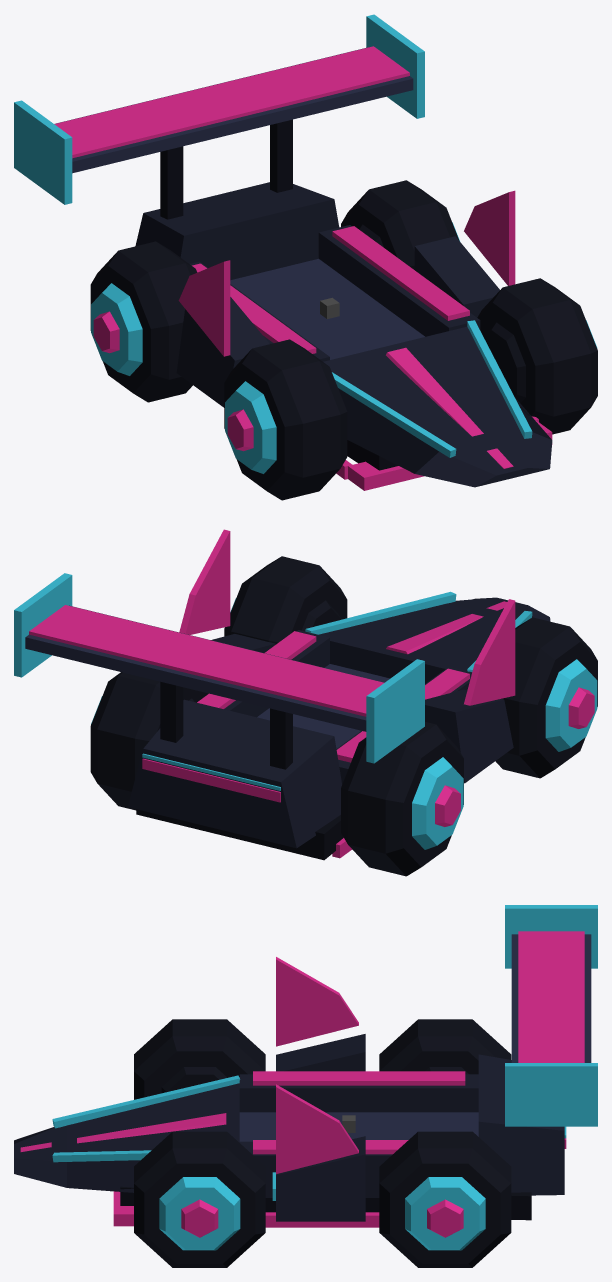
Rendered from kart-nightCity.glb.
3 views of the same model, one above another, from view 1: azimuth 30°, elevation 25°; view 2: azimuth 150°, elevation 25°; view 3: azimuth 270°, elevation 25° (orthographic). The views are drawn at different scales.
Visible parts, largest first — view 1: kart-nightCity, wheel-front-right, wheel-front-left, wheel-back-right, wheel-back-left; view 2: kart-nightCity, wheel-back-right, wheel-front-right, wheel-front-left, wheel-back-left; view 3: kart-nightCity, wheel-back-left, wheel-front-left, wheel-front-right, wheel-back-right.
Boxes of the visible parts, x1,y1,x2,y2 form: kart-nightCity: [14, 14, 552, 490]; wheel-front-right: [224, 339, 347, 500]; wheel-front-left: [477, 278, 597, 434]; wheel-back-right: [90, 241, 197, 402]; wheel-back-left: [341, 180, 460, 269]; kart-nightCity: [14, 529, 550, 860]; wheel-back-right: [341, 722, 463, 876]; wheel-front-right: [495, 617, 597, 778]; wheel-front-left: [224, 556, 347, 644]; wheel-back-left: [90, 672, 208, 810]; kart-nightCity: [14, 905, 597, 1227]; wheel-back-left: [379, 1131, 511, 1267]; wheel-front-left: [134, 1131, 265, 1267]; wheel-front-right: [134, 1019, 265, 1099]; wheel-back-right: [379, 1019, 511, 1074].
Bounding box in the file's own units: 1.15 × 0.7236 × 1.76.
